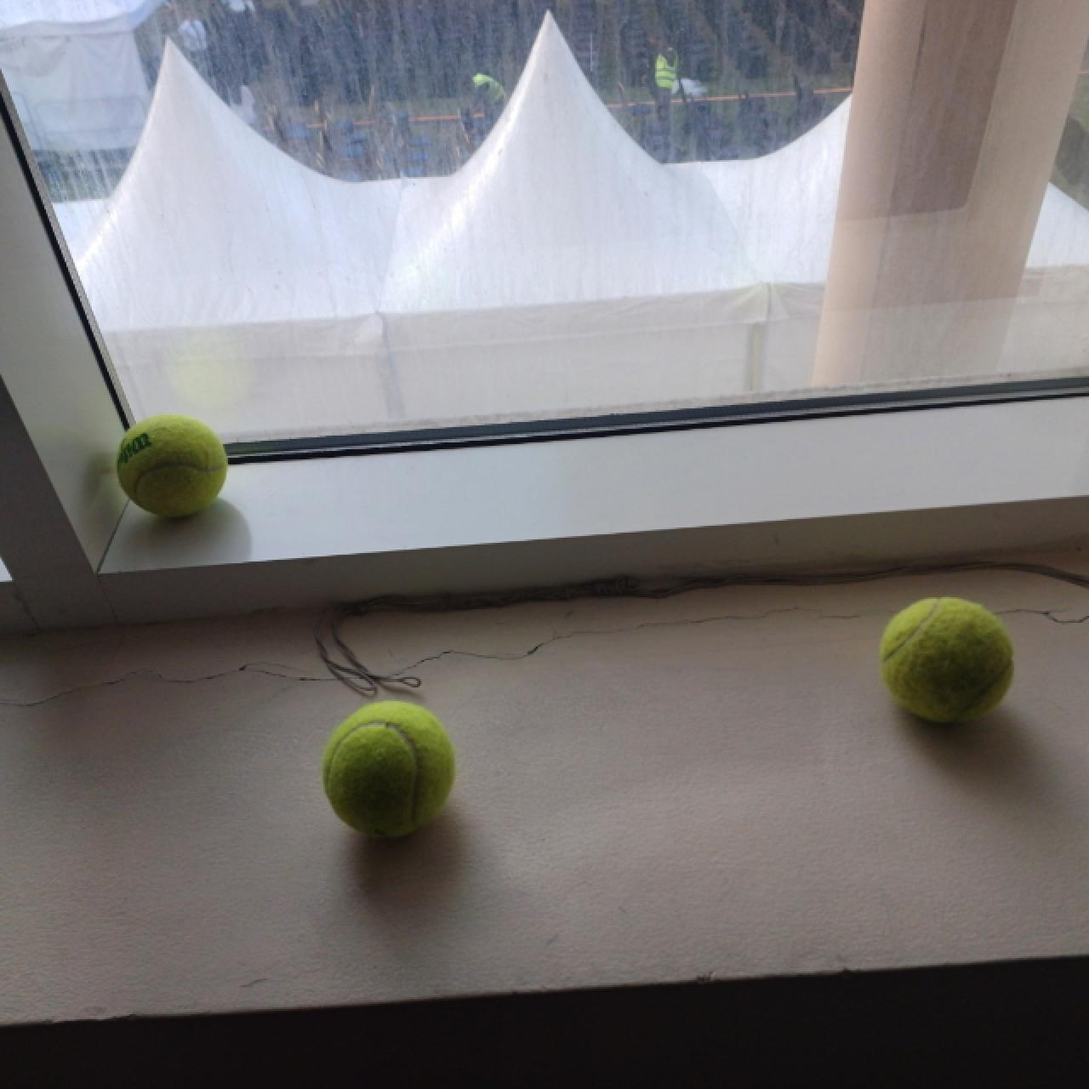tennis-ball: (319, 699, 456, 841), (877, 594, 1016, 725), (115, 413, 229, 520)
